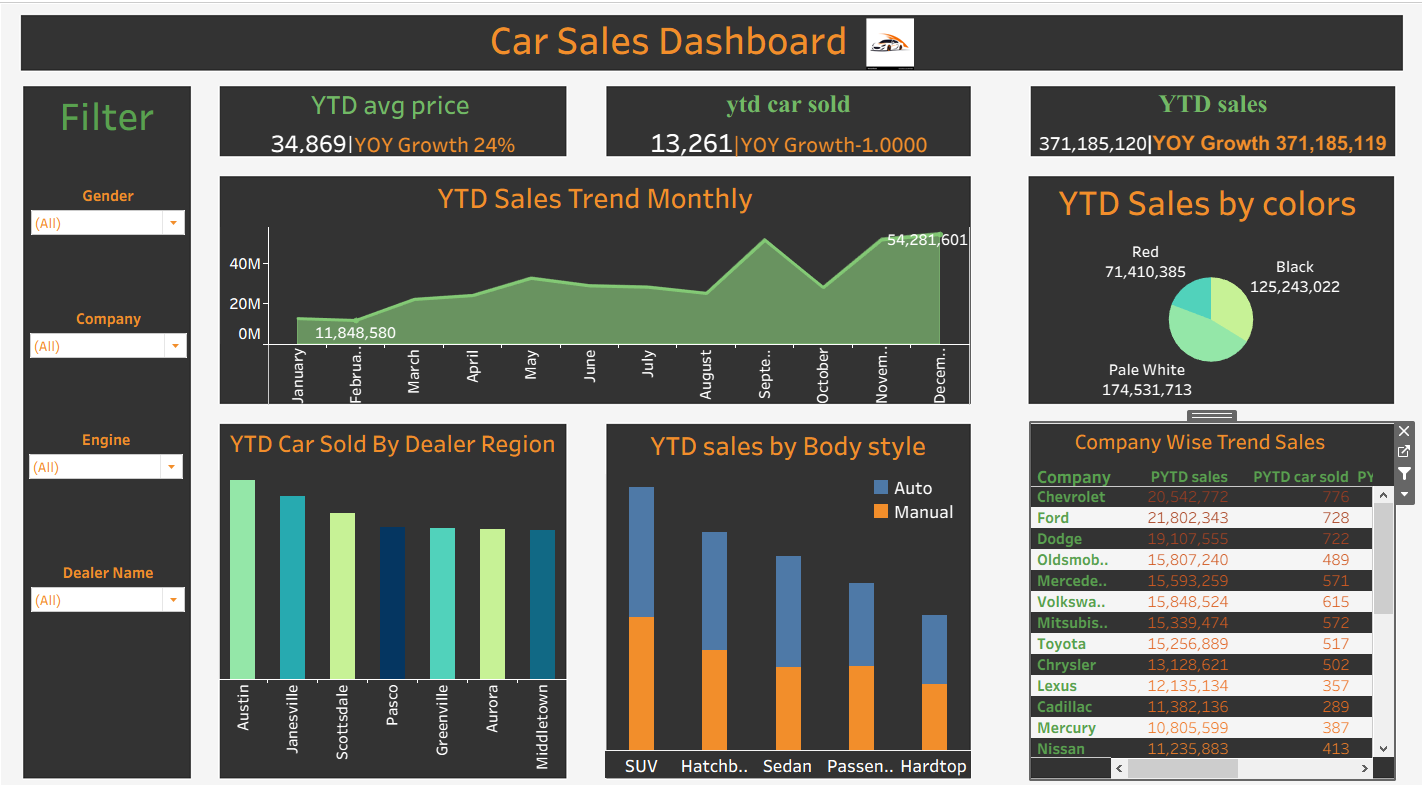

The dashboard page shown, as its layout file describes it:
{"tool":"tableau","page":{"name":"Dashboard ","canvas":[1600,900],"ordinal":0},"visuals":[{"type":"image","box":[8,8,1584,884]},{"type":"image","param":"C:/Users/Mega Store/Downloads/framwork 2.png","box":[14,14,1578,800]},{"type":"image","param":"C:/Users/Mega Store/Downloads/download.png","box":[879,28,176,52]},{"type":"text","box":[389,32,585,35]},{"type":"worksheet","title":"YTD avg price ","mark":"Automatic","box":[234,93,344,70]},{"type":"worksheet","title":"ytd car sold","mark":"Automatic","box":[619,96,365,71]},{"type":"worksheet","title":"YTD sales","mark":"Automatic","box":[1044,96,364,71]},{"type":"text","box":[69,99,134,53]},{"type":"worksheet","title":"YTD Sales Trend Monthly","mark":"Area","rows":["Calculation_731553524547514369","Calculation_731553524547514369"],"cols":["Date"],"box":[233,185,750,231]},{"type":"worksheet","title":"YTD Sales by colors ","mark":"Pie","box":[1041,185,366,229]},{"type":"filter","title":"YTD Sales Trend Monthly","param":"[federated.0e1pzth0is1kck1dsk6gk17zgtao].[none:Gender:nk]","box":[41,195,160,97]},{"type":"filter","title":"YTD Sales Trend Monthly","param":"[federated.0e1pzth0is1kck1dsk6gk17zgtao].[none:Company:nk]","box":[40,318,163,456]},{"type":"worksheet","title":"YTD Car Sold By Dealer Region","mark":"Automatic","rows":["Calculation_731553524553977860"],"cols":["Dealer_Region"],"box":[231,433,349,355]},{"type":"worksheet","title":"Company Wise Trend Sales ","mark":"Automatic","rows":["Company"],"box":[1044,433,363,356]},{"type":"worksheet","title":"YTD sales by Body style","mark":"Bar","rows":["Calculation_731553524547514369"],"cols":["Body Style"],"box":[618,434,366,354]},{"type":"filter","title":"YTD Sales Trend Monthly","param":"[federated.0e1pzth0is1kck1dsk6gk17zgtao].[none:Engine:nk]","box":[39,439,160,97]},{"type":"legend","title":"YTD sales by Body style","param":"[federated.0e1pzth0is1kck1dsk6gk17zgtao].[none:Transmission:nk]","box":[882,485,102,53]}]}

Visuals, with their boxes in screenshot pixels (x1, y1, x2, y2), scaled from the page's 1600x900 canvas onto the 1422x785 screenshot:
image: bbox=[7, 7, 1415, 778]
image: bbox=[12, 12, 1415, 710]
image: bbox=[781, 24, 938, 70]
text: bbox=[346, 28, 866, 58]
"YTD avg price " worksheet: bbox=[208, 81, 514, 142]
"ytd car sold" worksheet: bbox=[550, 84, 875, 146]
"YTD sales" worksheet: bbox=[928, 84, 1251, 146]
text: bbox=[61, 86, 180, 133]
"YTD Sales Trend Monthly" worksheet (Area marks): bbox=[207, 161, 874, 363]
"YTD Sales by colors " worksheet (Pie marks): bbox=[925, 161, 1250, 361]
"YTD Sales Trend Monthly" filter: bbox=[36, 170, 179, 255]
"YTD Sales Trend Monthly" filter: bbox=[36, 277, 180, 675]
"YTD Car Sold By Dealer Region" worksheet: bbox=[205, 378, 515, 687]
"Company Wise Trend Sales " worksheet: bbox=[928, 378, 1250, 688]
"YTD sales by Body style" worksheet (Bar marks): bbox=[549, 379, 875, 687]
"YTD Sales Trend Monthly" filter: bbox=[35, 383, 177, 468]
"YTD sales by Body style" legend: bbox=[784, 423, 875, 469]
